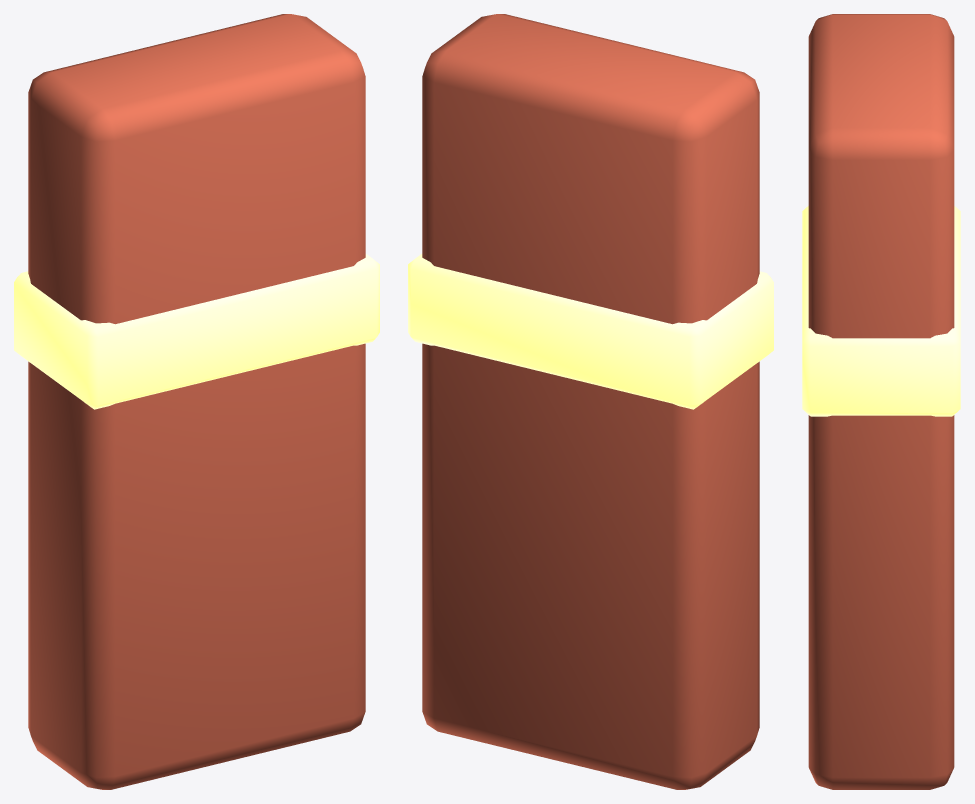
Rendered from DominoBlock.fbx.
The picture shows the model from 3 angles, left to right: view 1: azimuth 30°, elevation 25°; view 2: azimuth 150°, elevation 25°; view 3: azimuth 270°, elevation 25°; orthographic projection. The views are drawn at different scales.
Visible parts, largest first — view 1: DominoBlock; view 2: DominoBlock; view 3: DominoBlock.
Part boxes in pixels (x1,y1,x2,y2): DominoBlock: (14, 14, 379, 789); DominoBlock: (408, 14, 773, 789); DominoBlock: (802, 14, 960, 789).
Size of the model in its own units: 81 by 39 by 180.
1 material, 1 textured.
